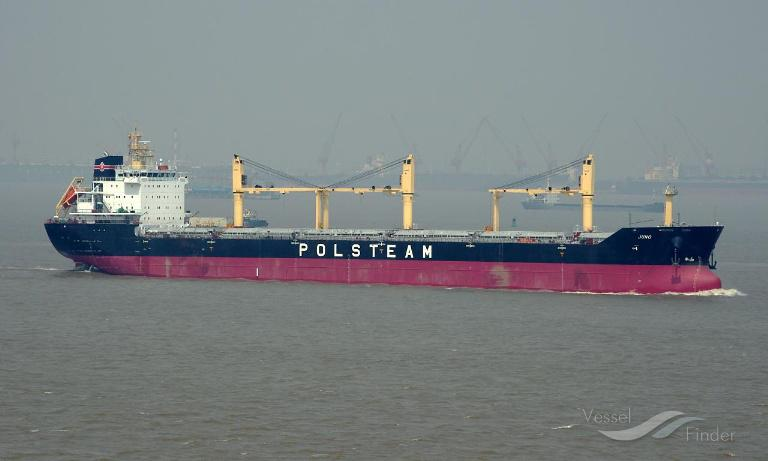OCR: (289, 233, 440, 270)
